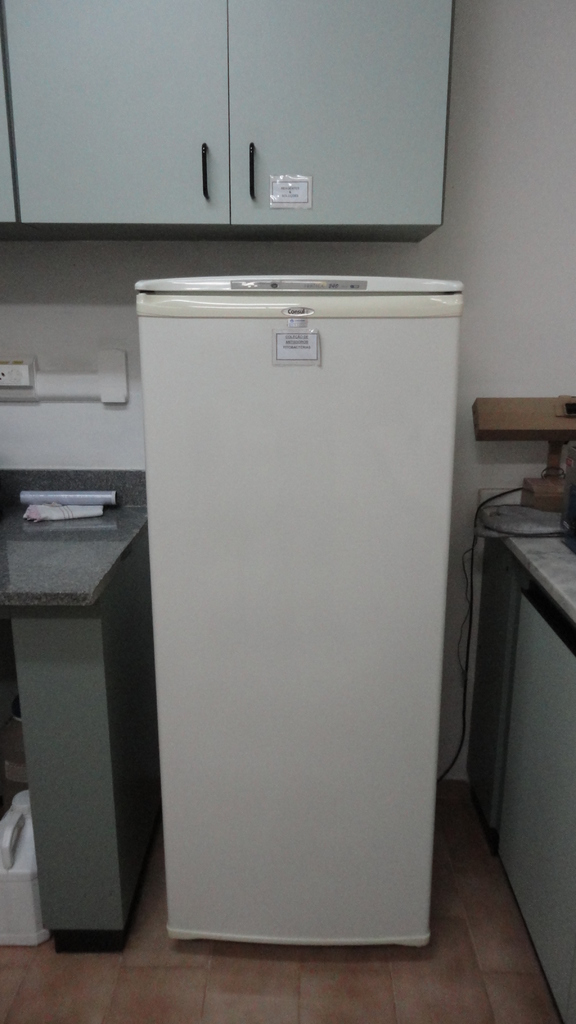cabinet door: (228, 7, 440, 220), (11, 13, 230, 209)
handle: (197, 129, 214, 210), (244, 127, 257, 205)
